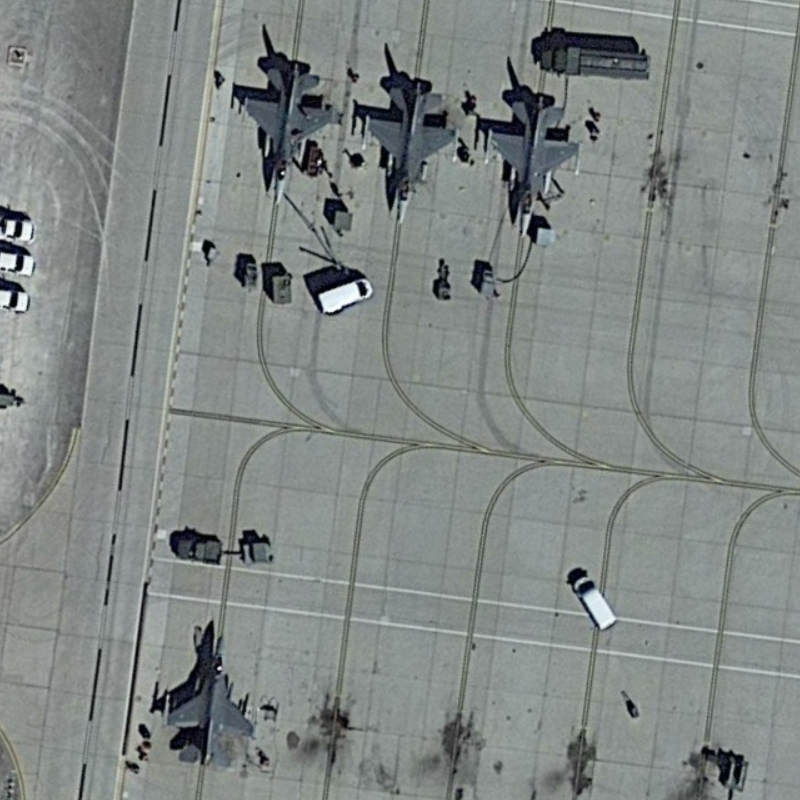A5: (228, 50, 344, 208), (478, 84, 590, 243), (154, 621, 267, 772), (353, 73, 461, 227)
